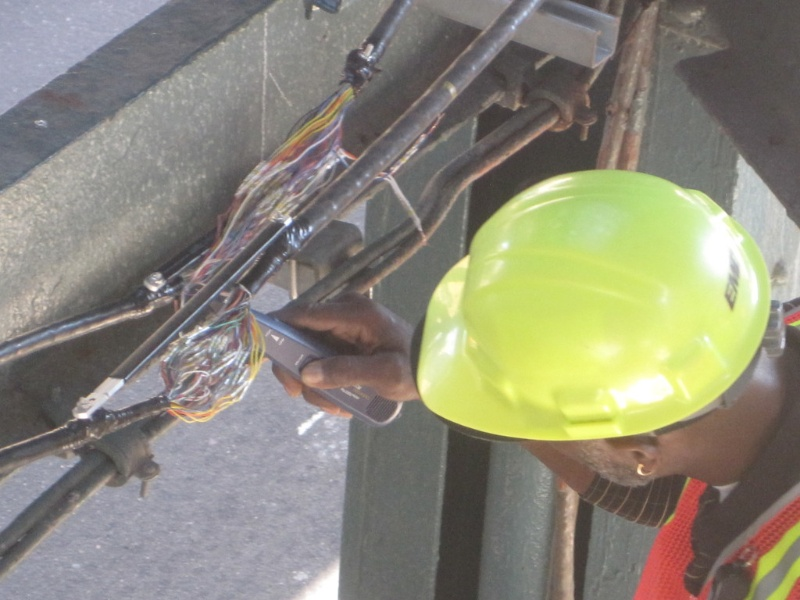helmet: (416, 169, 775, 439)
jacket: (636, 456, 800, 600)
